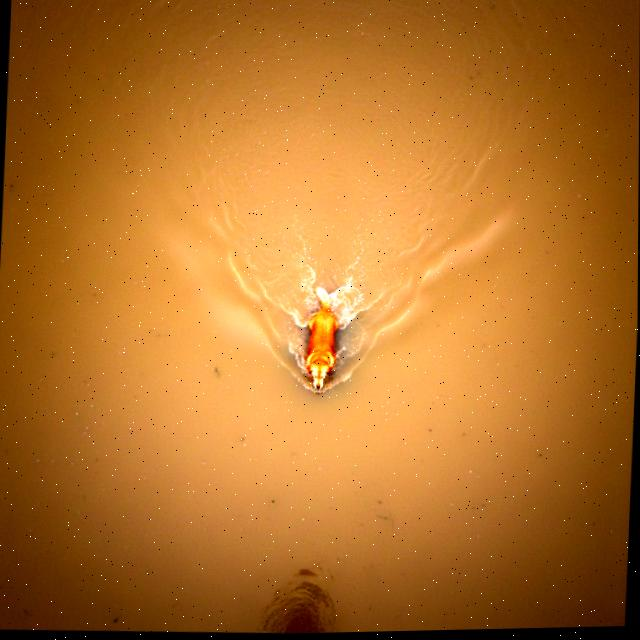dog: (278, 266, 360, 415)
